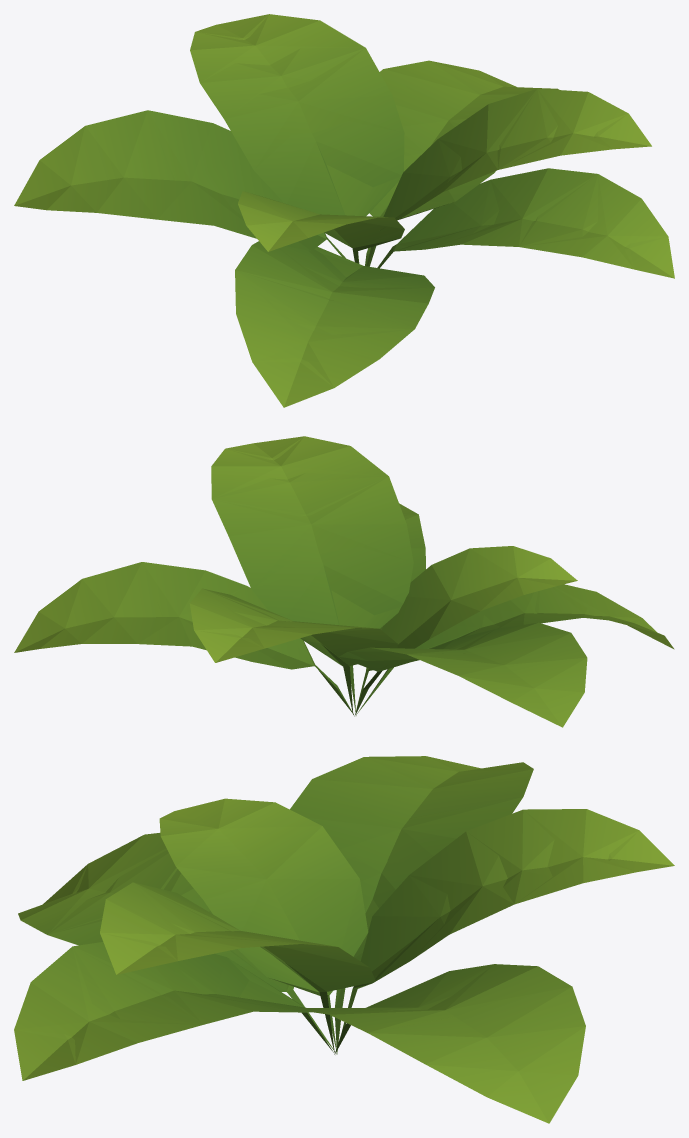
Rendered from Mesh_Nature_Plant_01.FBX.
3 renders of one model, top to bottom at view 1: azimuth 30°, elevation 25°; view 2: azimuth 150°, elevation 25°; view 3: azimuth 270°, elevation 25°, orthographic. The views are drawn at different scales.
Visible parts, largest first — view 1: Mesh_Nature_Plant_01; view 2: Mesh_Nature_Plant_01; view 3: Mesh_Nature_Plant_01.
Boxes of the visible parts, <box> form: Mesh_Nature_Plant_01: <box>14,14,674,407</box>; Mesh_Nature_Plant_01: <box>14,436,674,727</box>; Mesh_Nature_Plant_01: <box>14,756,674,1123</box>.
Size of what is drawn, in the model's own units: 116 by 104 by 37.57.
